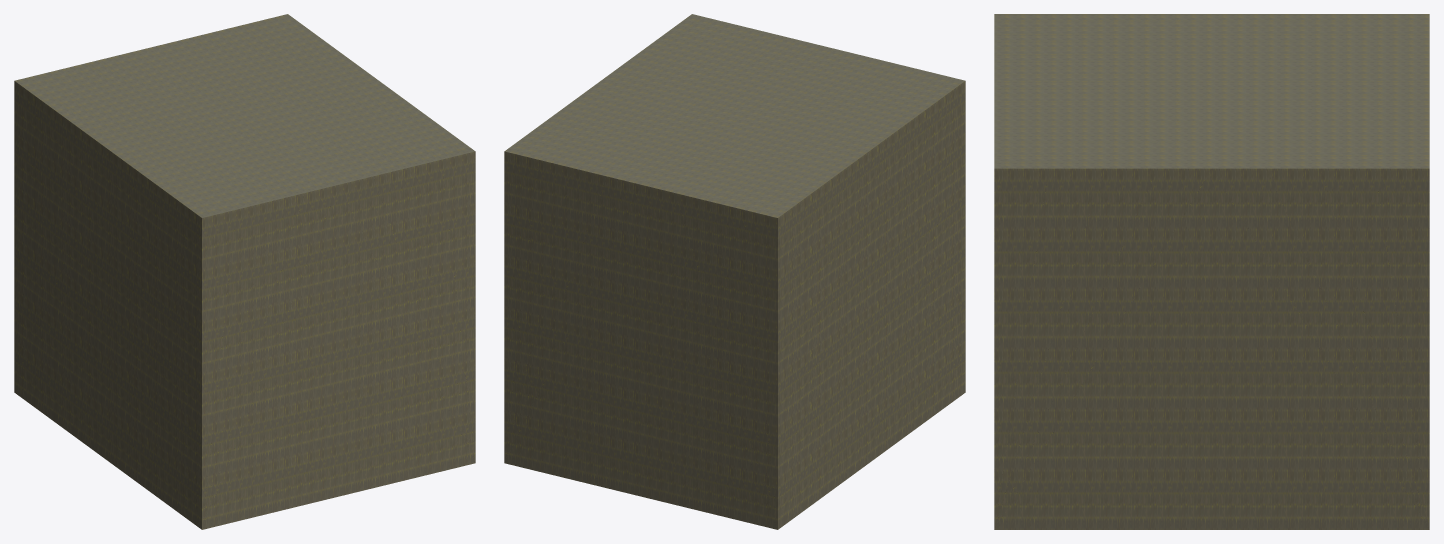
Rendered from Fortress_Cube_Test.fbx.
3 views of the same model, side by side, from view 1: azimuth 30°, elevation 25°; view 2: azimuth 150°, elevation 25°; view 3: azimuth 270°, elevation 25° (orthographic). The views are drawn at different scales.
Parts seen in each view (by area): view 1: IntroPlatform_1; view 2: IntroPlatform_1; view 3: IntroPlatform_1.
Boxes of the visible parts, bbox=[...] form: IntroPlatform_1: bbox=[14, 14, 475, 529]; IntroPlatform_1: bbox=[504, 14, 965, 529]; IntroPlatform_1: bbox=[994, 14, 1429, 529].
Bounding box in the file's own units: 1071 × 1167 × 1274.
